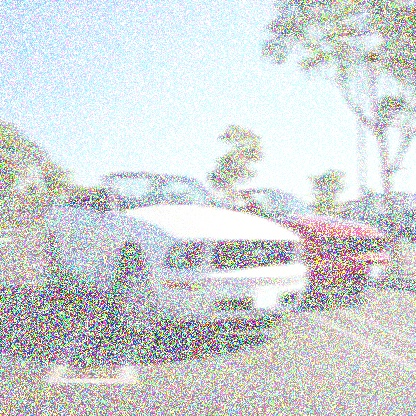Vehicle: (40, 172, 307, 336)
